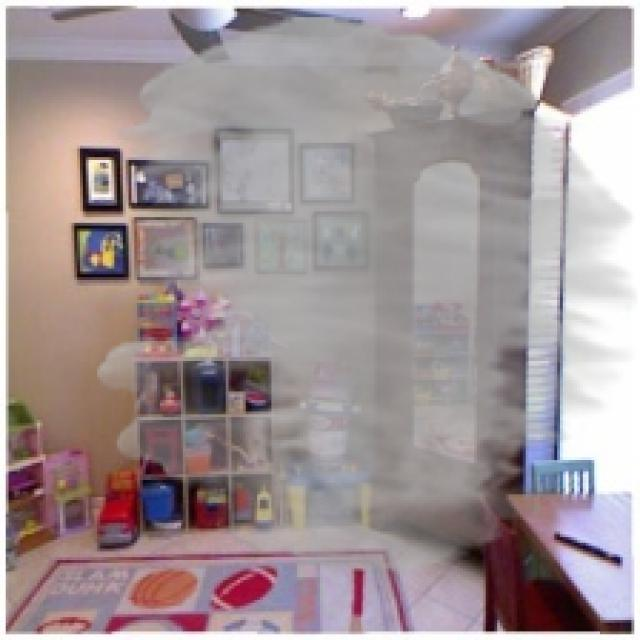smoke: (97, 17, 637, 574)
